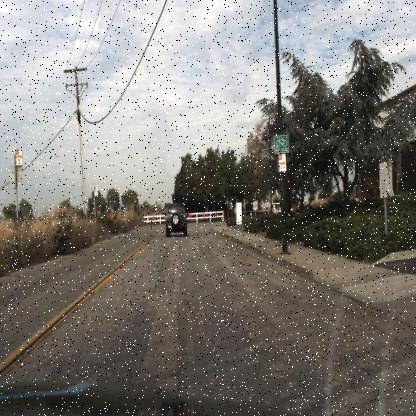car: (167, 202, 191, 235)
